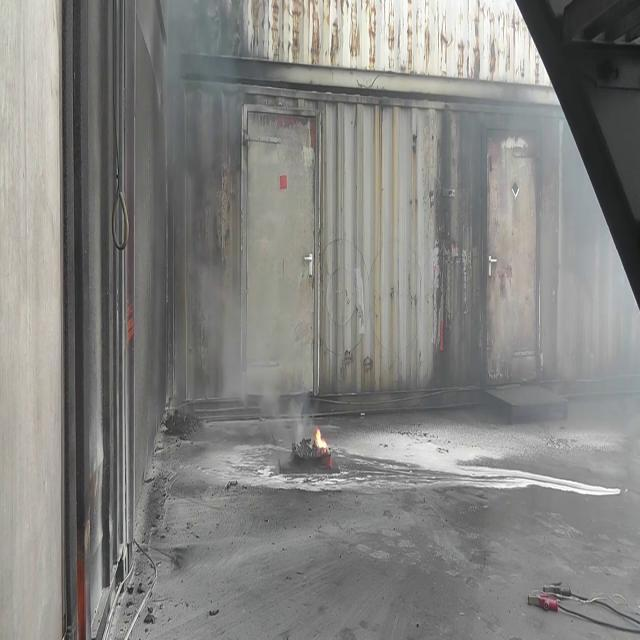Fire: (312, 418, 330, 459)
Smoke: (148, 0, 299, 440)
